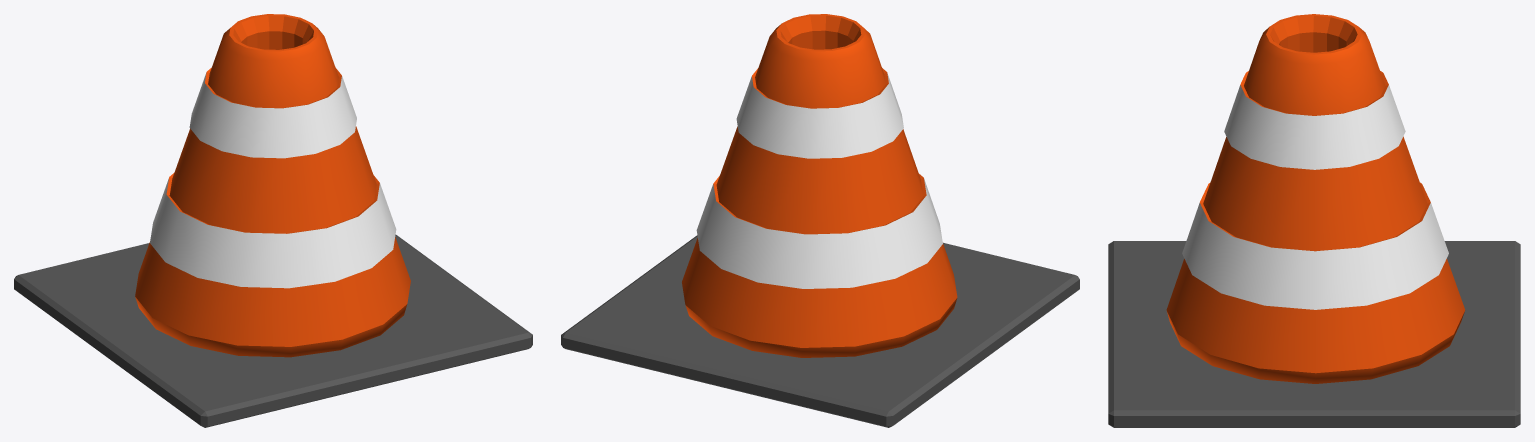
The model's file is road_signalizer_cone.fbx.
3 renders of one model, left to right at view 1: azimuth 30°, elevation 25°; view 2: azimuth 150°, elevation 25°; view 3: azimuth 270°, elevation 25°, orthographic. The views are drawn at different scales.
Visible parts, largest first — view 1: road_signalizer_cone; view 2: road_signalizer_cone; view 3: road_signalizer_cone.
Boxes of the visible parts, left/top/right/bottom form: road_signalizer_cone: left=14, top=14, right=532, bottom=427; road_signalizer_cone: left=561, top=14, right=1079, bottom=427; road_signalizer_cone: left=1108, top=14, right=1520, bottom=427.
Bounding box in the file's own units: 70.66 × 58.44 × 70.66.
